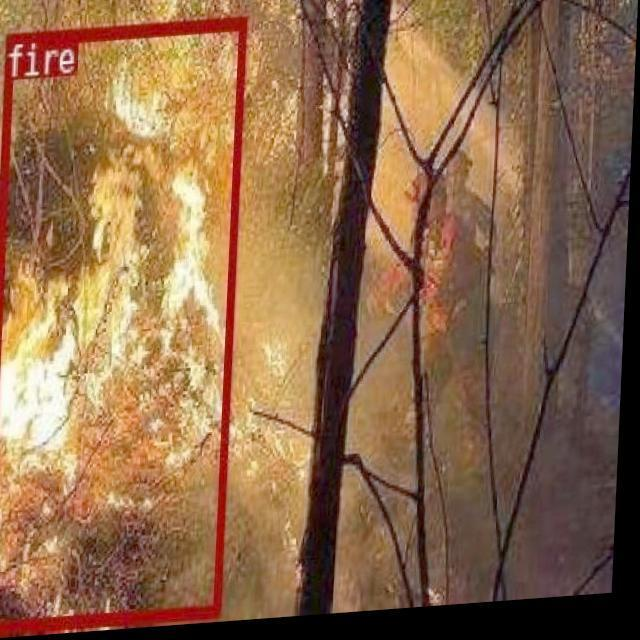Fire: (0, 26, 320, 618)
Smoke: (353, 0, 640, 618)
